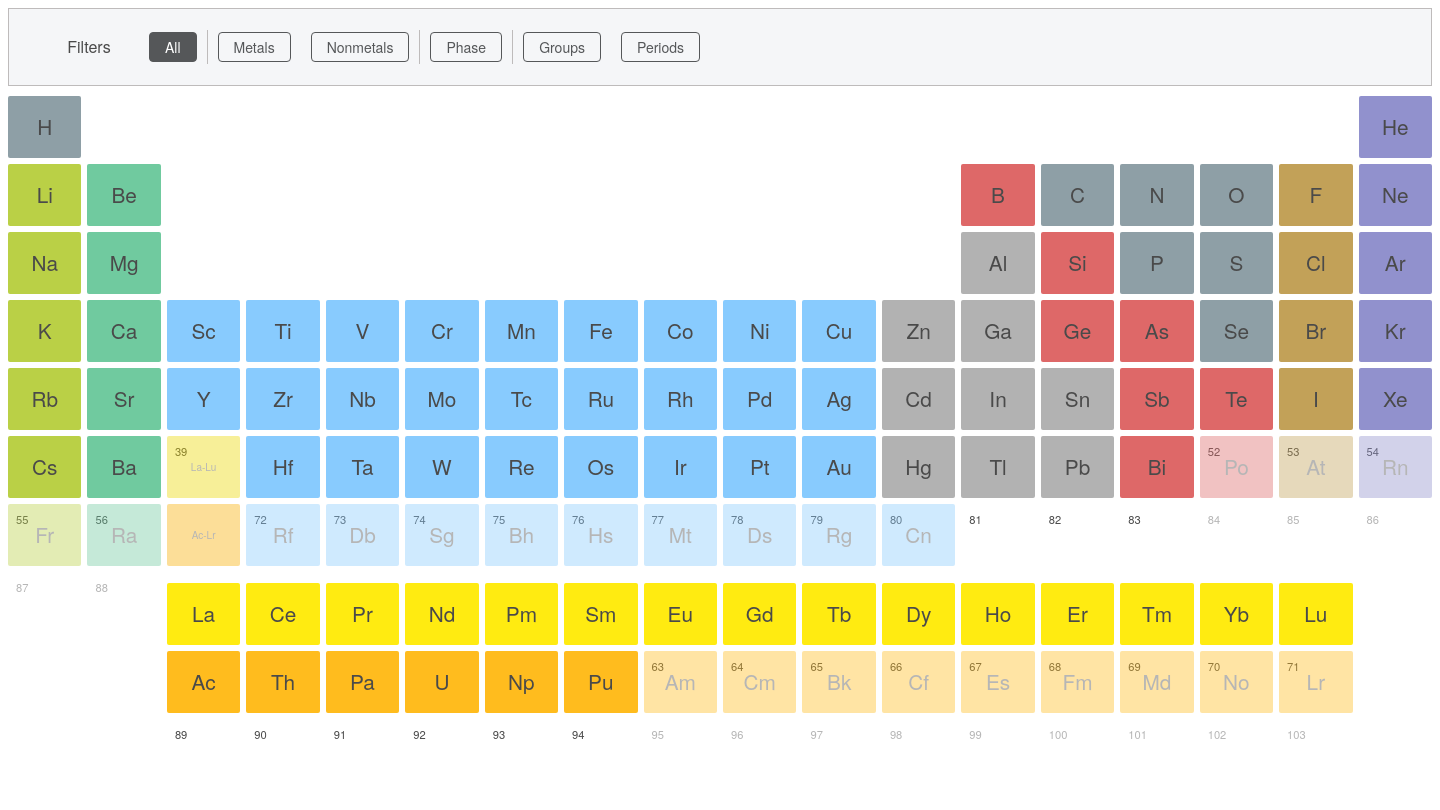
Test case: TableFilter › filters by group without relying on the category mapper path
Click the button "Groups": (562, 47) [523,32,601,62]
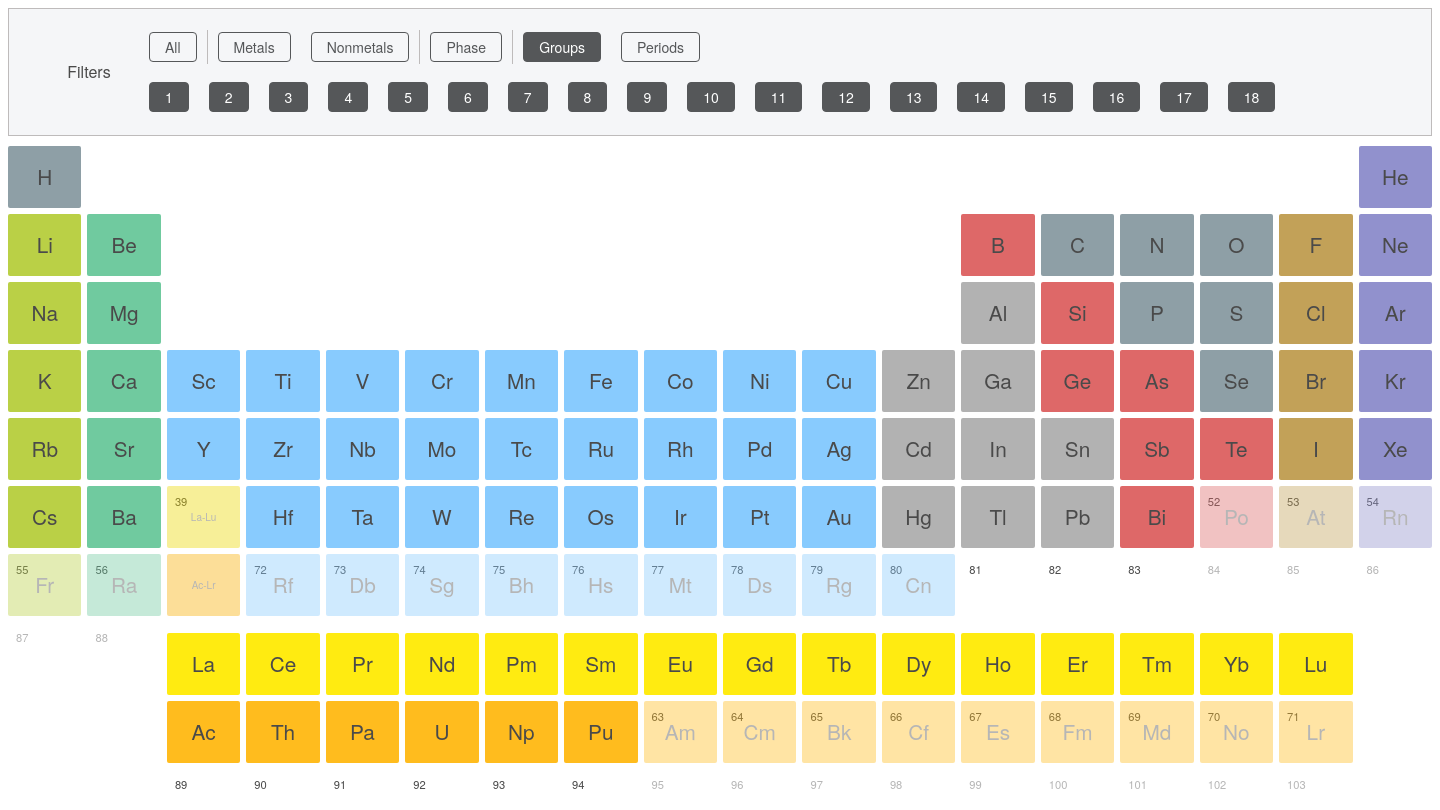
Now the element with class "ms-sub-filter-selector" is shown, box [139,72,1401,122]
Click the button "1": (169, 97) [149,82,189,112]
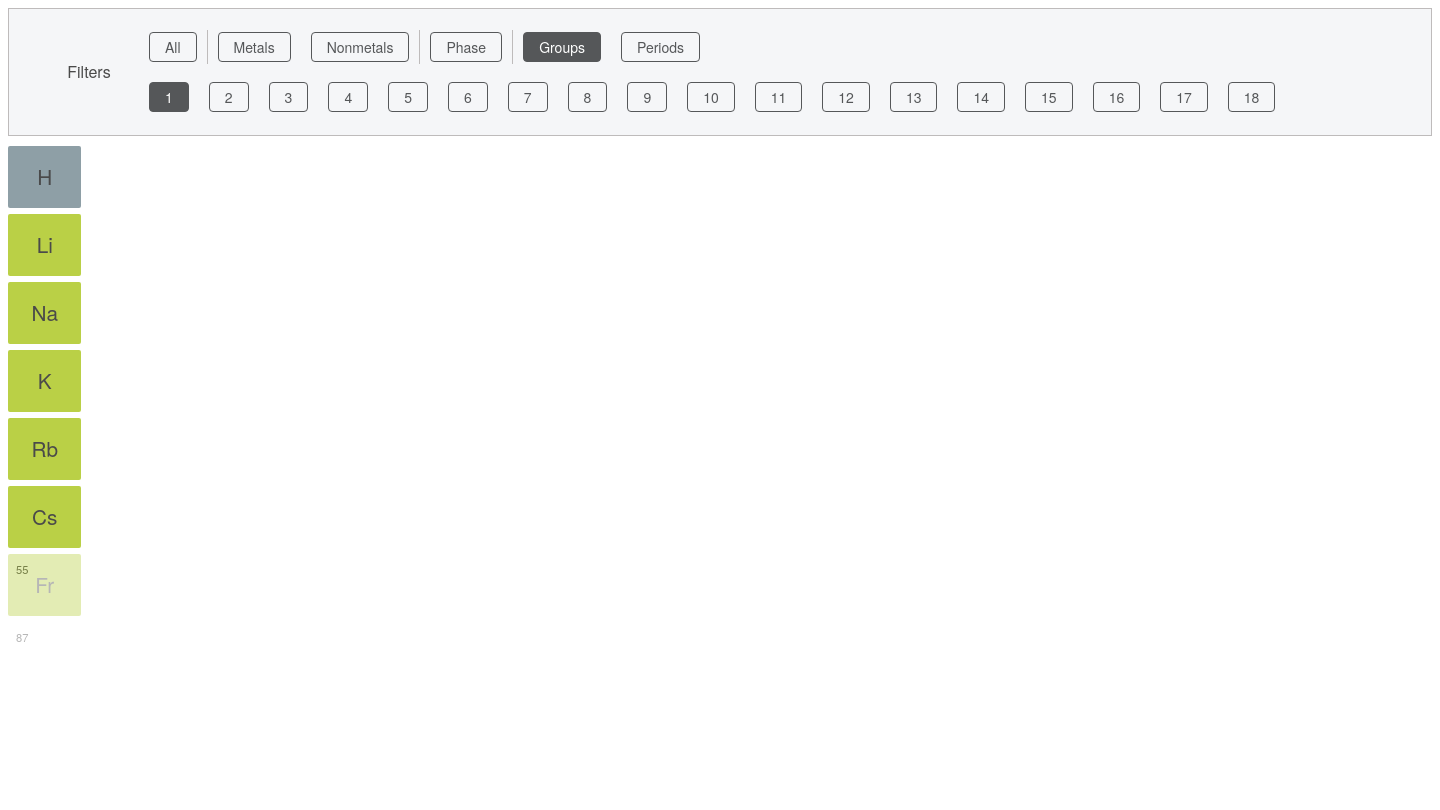
Expected: the button with test id "periodic-element-H" is shown, [8,146,81,208]
Now the button with test id "periodic-element-He" is gone
Now the button with test id "periodic-element-Fe" is gone
